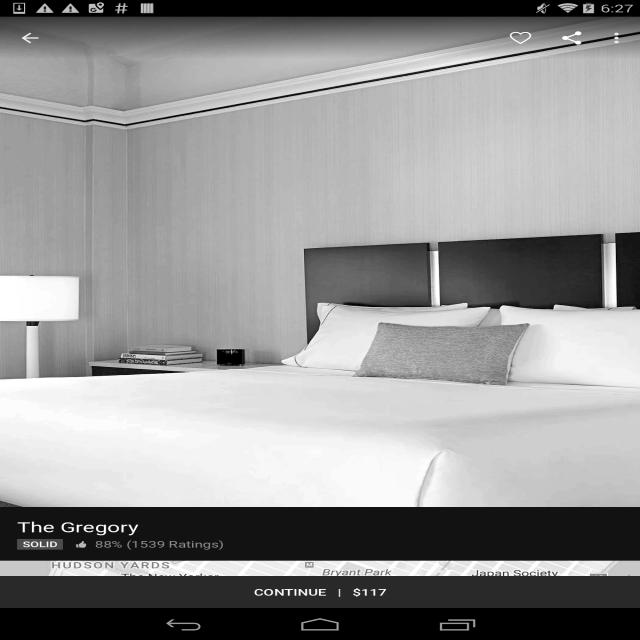Button: (0, 576, 640, 608)
ImageButton: (0, 17, 60, 59)
ImageView: (0, 560, 640, 640), (597, 22, 640, 54), (17, 539, 63, 550), (72, 538, 90, 550)
TextView: (0, 576, 640, 592), (17, 518, 139, 536), (495, 22, 546, 54), (546, 22, 597, 54), (95, 538, 224, 550)
